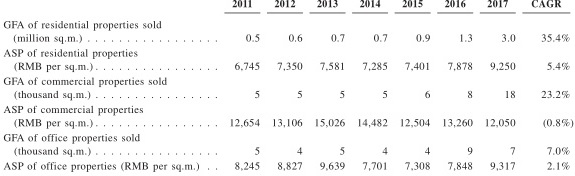column: (4, 1, 218, 175), (532, 1, 574, 175), (443, 1, 474, 176), (273, 1, 303, 176), (358, 1, 388, 176), (401, 1, 431, 175), (231, 1, 260, 176), (316, 1, 345, 175), (486, 1, 515, 175)
row: (1, 20, 575, 31), (1, 105, 575, 116), (1, 34, 575, 44), (1, 49, 575, 59), (1, 62, 575, 72), (1, 119, 575, 129), (1, 134, 575, 144), (1, 147, 575, 157), (1, 77, 575, 86), (1, 91, 575, 100), (1, 162, 575, 171), (1, 1, 575, 8)
